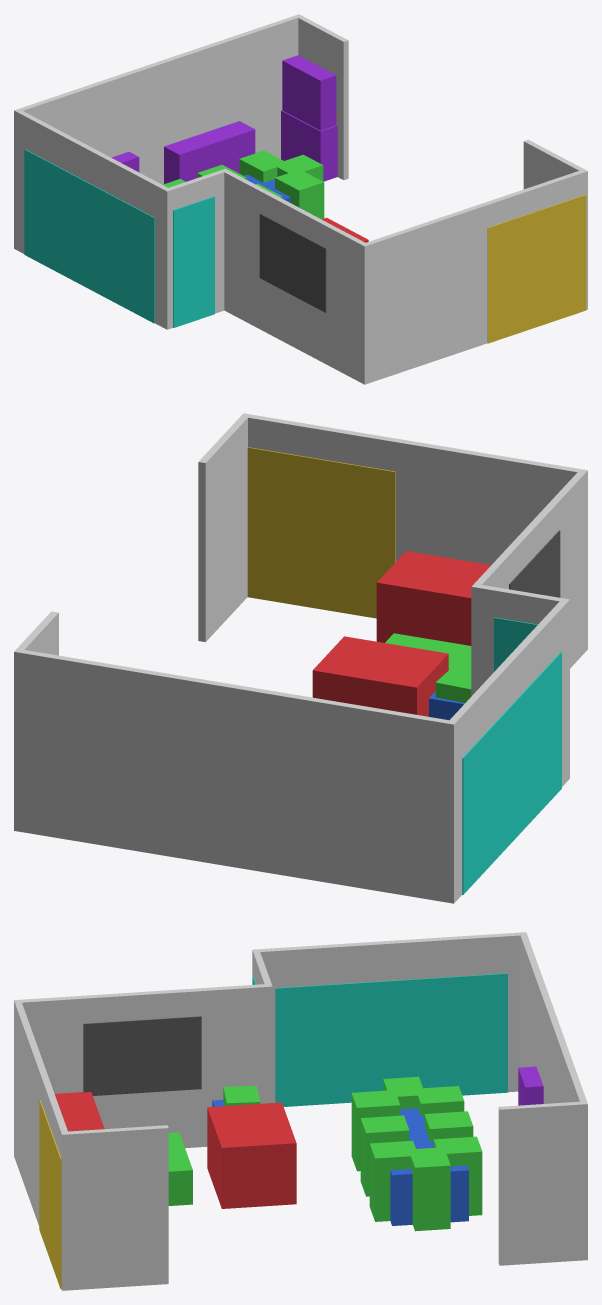
3 views of the same model, one above another, from view 1: azimuth 30°, elevation 25°; view 2: azimuth 150°, elevation 25°; view 3: azimuth 270°, elevation 25° (orthographic). The views are drawn at different scales.
Visible parts, largest first — view 1: wall, doorClose, opening, storage, window, chair; view 2: wall, opening, sofa, doorClose, window, table, chair; view 3: wall, doorClose, chair, sofa, window, table, opening, storage.
Boxes of the visible parts, box(x1,y1,x2,y2) form: wall: box(14, 14, 587, 384); doorClose: box(24, 149, 214, 327); opening: box(487, 195, 586, 343); storage: box(111, 55, 337, 183); window: box(259, 213, 326, 312); chair: box(162, 150, 324, 219); wall: box(14, 413, 587, 903); opening: box(247, 447, 395, 618); sofa: box(312, 551, 491, 716); doorClose: box(462, 617, 561, 894); window: box(509, 530, 560, 597); table: box(385, 633, 471, 720); chair: box(435, 668, 471, 702); wall: box(14, 932, 587, 1290); doorClose: box(252, 973, 507, 1106); chair: box(223, 1076, 482, 1231); sofa: box(54, 1092, 296, 1208); window: box(83, 1016, 201, 1095); table: box(168, 1099, 468, 1225); opening: box(39, 1100, 61, 1289); storage: box(518, 1066, 543, 1105).
Size of the model in its own units: 6.87 by 2.47 by 8.22.
